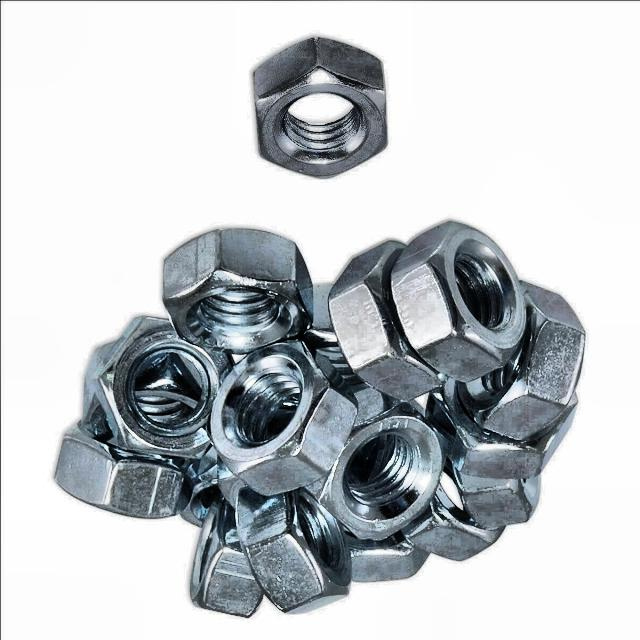Nut Detection - v1 Nut Dataset: (451, 276, 596, 443), (252, 30, 397, 187), (393, 222, 530, 385), (215, 337, 348, 496), (158, 229, 318, 358), (92, 311, 228, 460), (306, 392, 444, 536), (326, 238, 445, 398), (426, 390, 581, 486), (231, 491, 348, 612), (44, 432, 189, 522), (176, 505, 270, 633), (415, 495, 508, 567), (455, 472, 564, 532), (328, 530, 438, 588)
